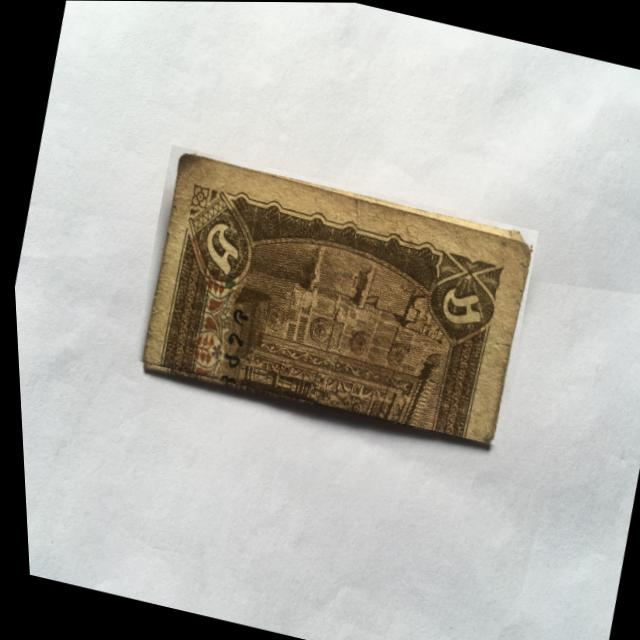Taka: (120, 144, 544, 446)
